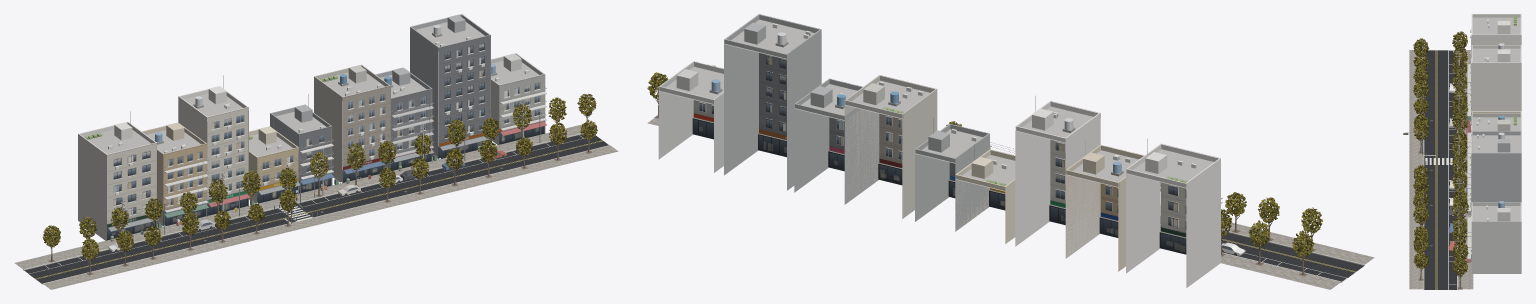
Rendered from outside.glb.
3 renders of one model, left to right at view 1: azimuth 30°, elevation 25°; view 2: azimuth 150°, elevation 25°; view 3: azimuth 270°, elevation 25°, orthographic. The views are drawn at different scales.
Visible parts, largest first — view 1: OUT_Street, OUT_Trees, OUT_Wires; view 2: OUT_Street, OUT_Trees; view 3: OUT_Street, OUT_Trees, OUT_Wires.
Boxes of the visible parts, x1,y1,x2,y2 form: OUT_Street: (14, 14, 618, 289); OUT_Trees: (42, 94, 597, 260); OUT_Wires: (124, 101, 521, 211); OUT_Street: (647, 14, 1374, 289); OUT_Trees: (647, 65, 1322, 257); OUT_Street: (1403, 14, 1521, 289); OUT_Trees: (1413, 31, 1468, 276); OUT_Wires: (1458, 54, 1460, 232).
Size of the model in its own units: 138 by 27.4 by 28.36.
Materials: 7 (4 with a texture image).
